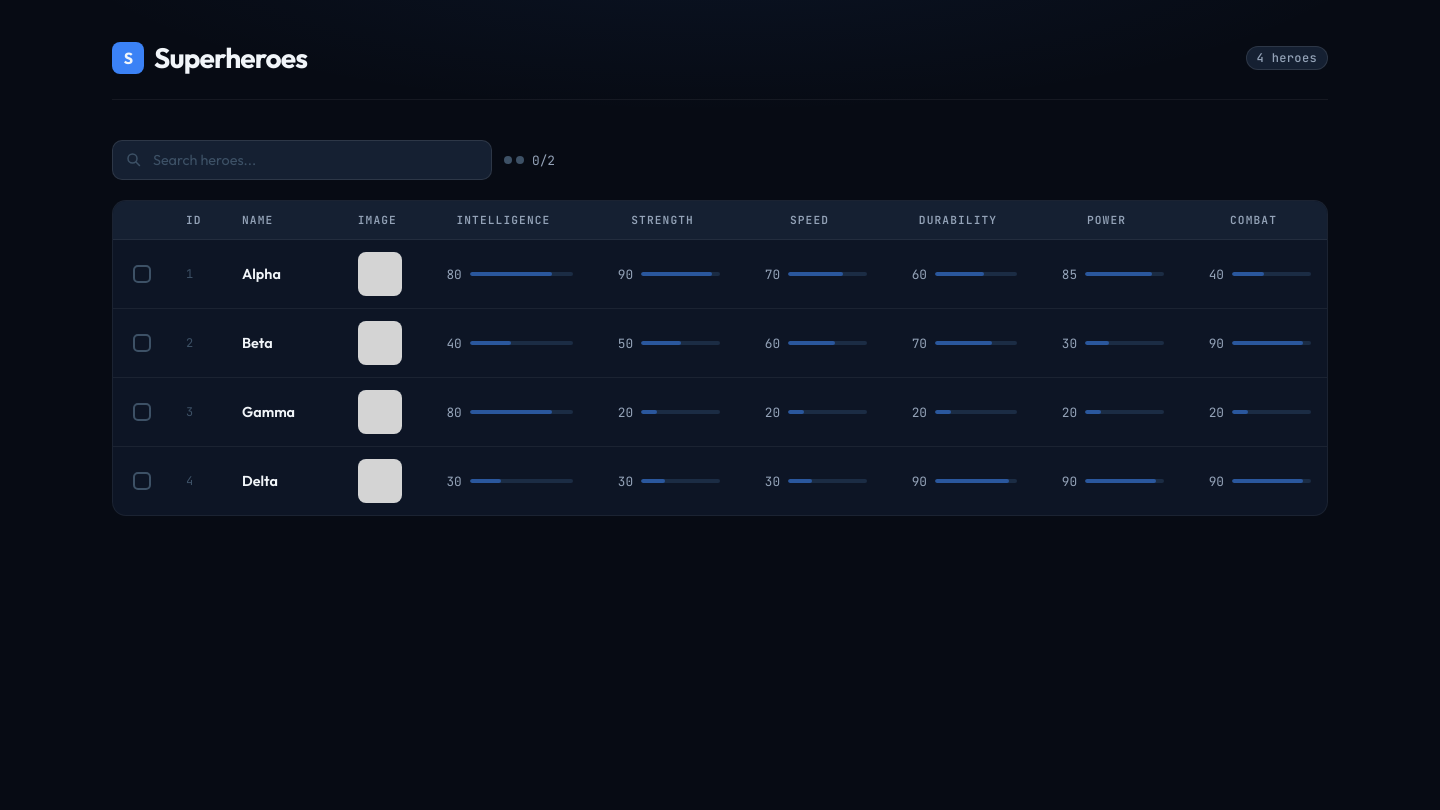
Scenario: compare view › shows tie message when heroes win equal categories
Click the checkbox in the row of "Alpha": x=142, y=274 [133,265,151,283]
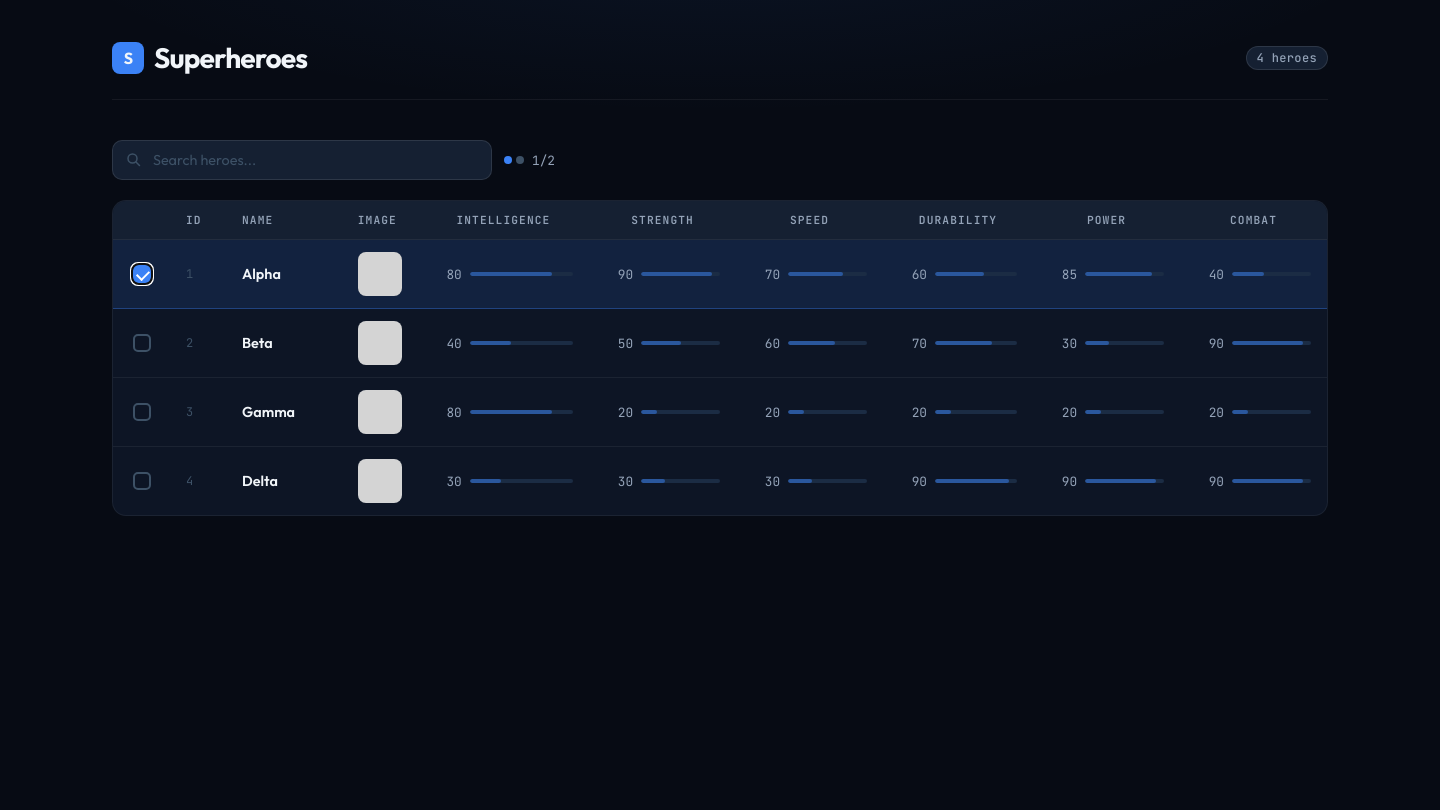
Click the checkbox in the row of "Delta": x=142, y=481 [133,472,151,490]
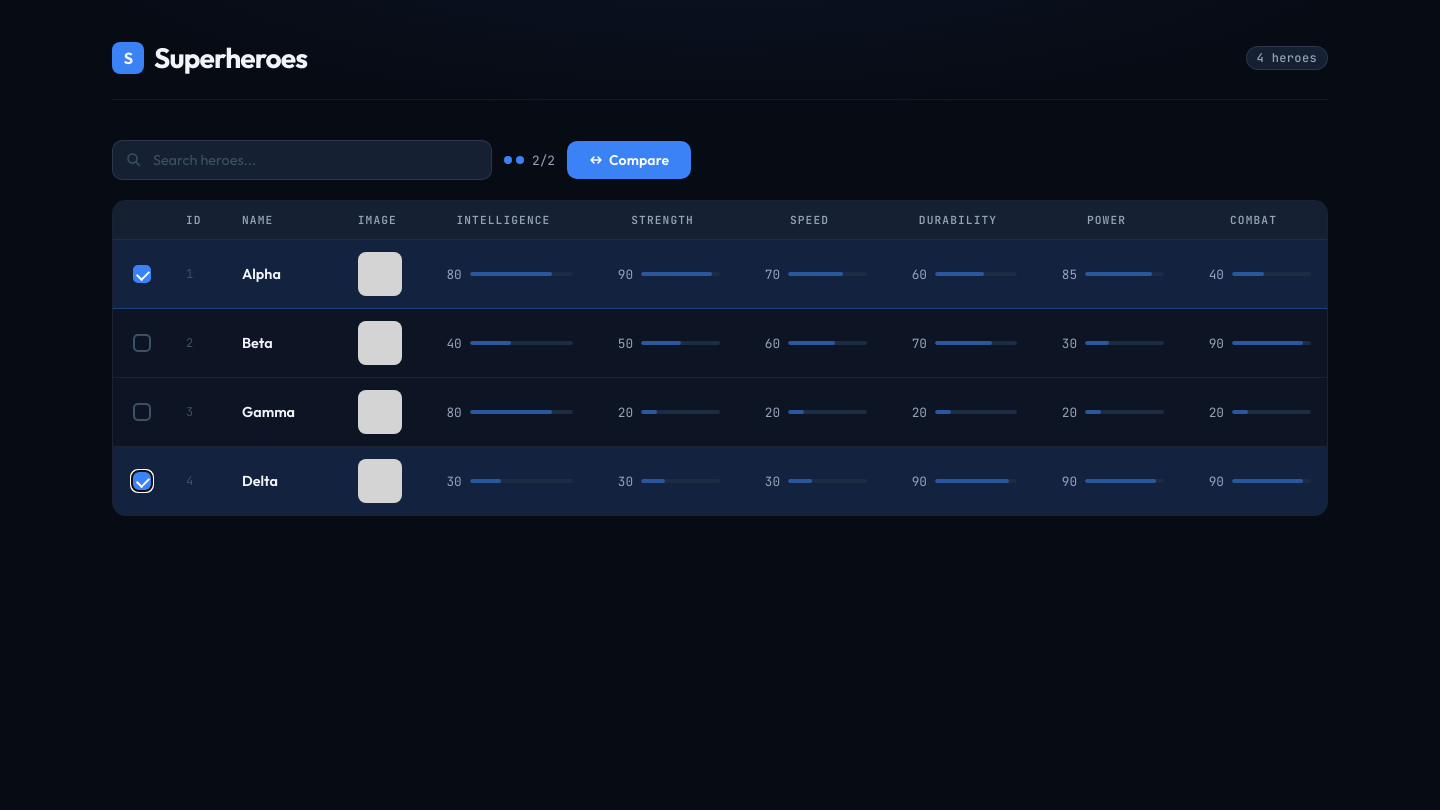
Click the button "Compare": x=629, y=160 [567,141,691,179]
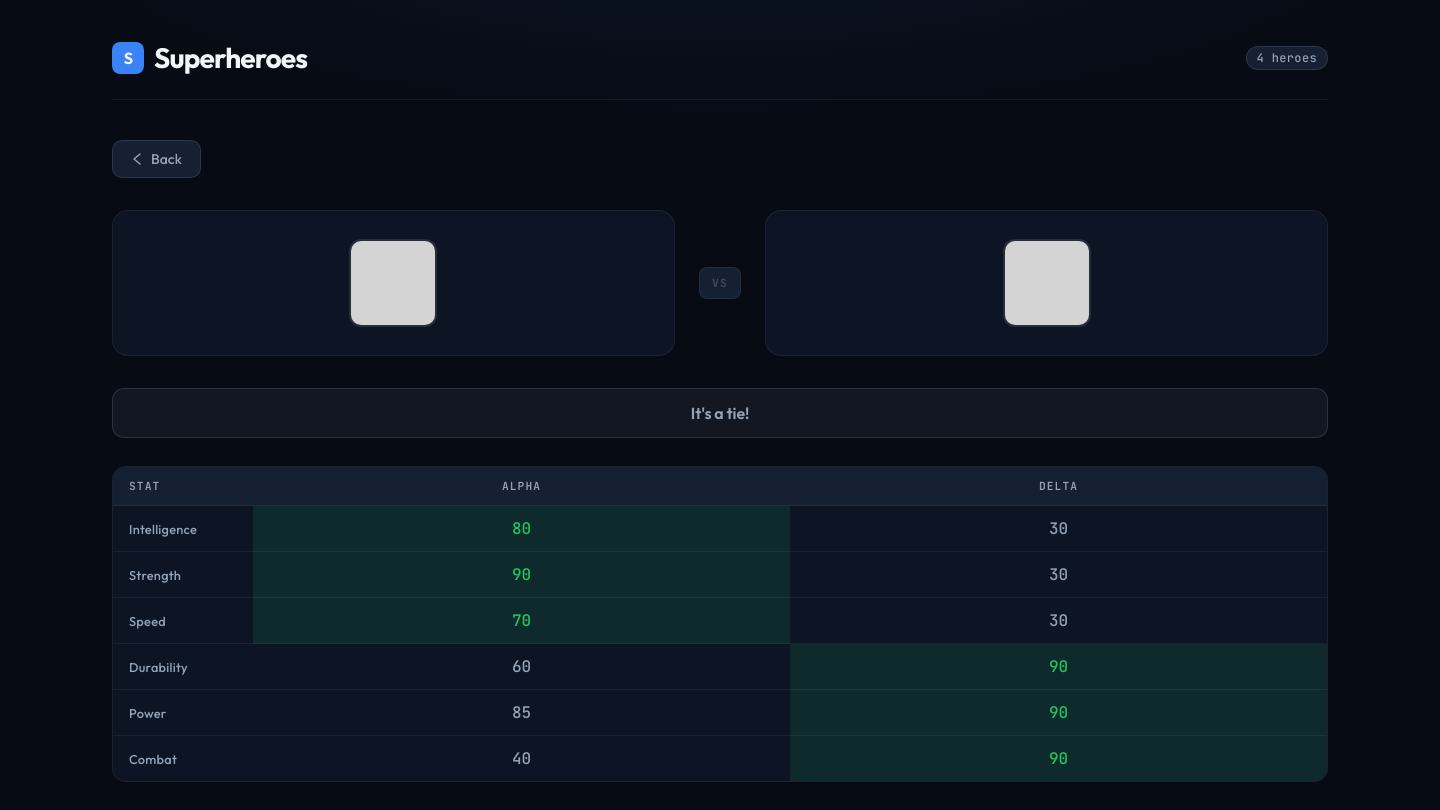
Now the text "It's a tie!" is shown, box [691,403,749,423]
